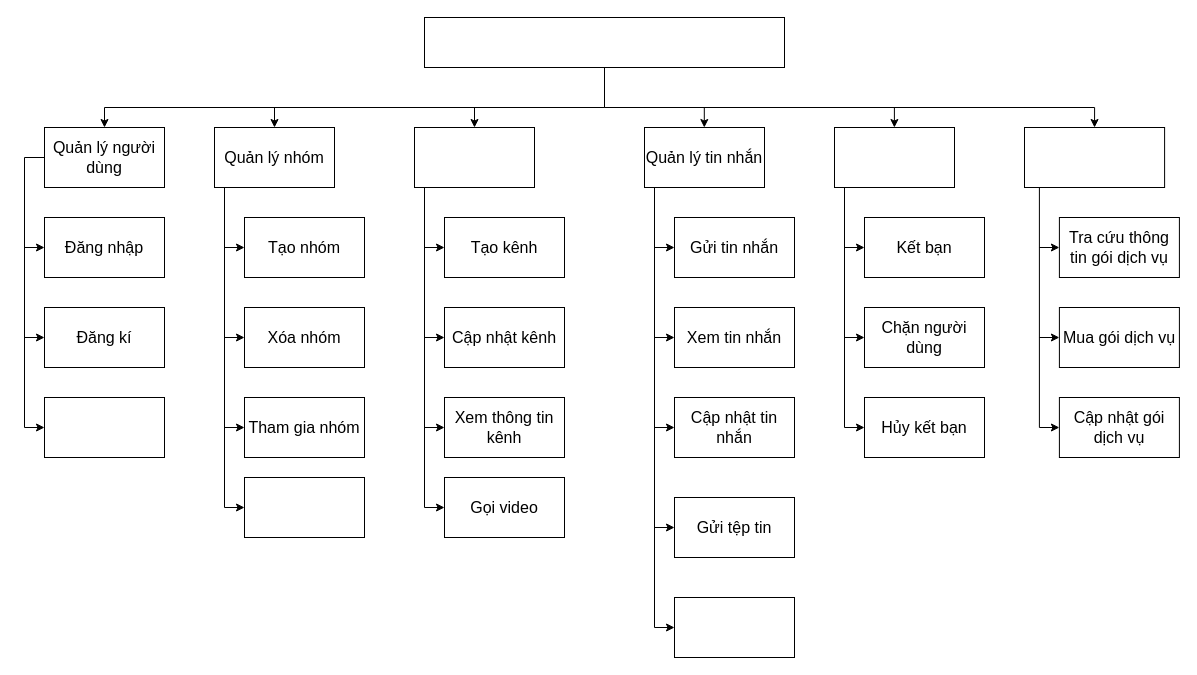
Some shapes in this 1197 by 675 pixel diagram are drawn without their labels. Here are the shapes that lost their labels. From the top down, the box of each, then its label:
(424, 16, 784, 68): Chức năng của người dùng
(414, 126, 534, 188): Quản lý kênh
(834, 126, 954, 188): Quản lý bạn bè
(1024, 126, 1165, 188): Quản lý gói dịch vụ
(44, 396, 164, 458): Cập nhật người dùng
(244, 476, 364, 538): Cập nhật nhóm
(674, 596, 794, 658): Trả lời tin nhắn
